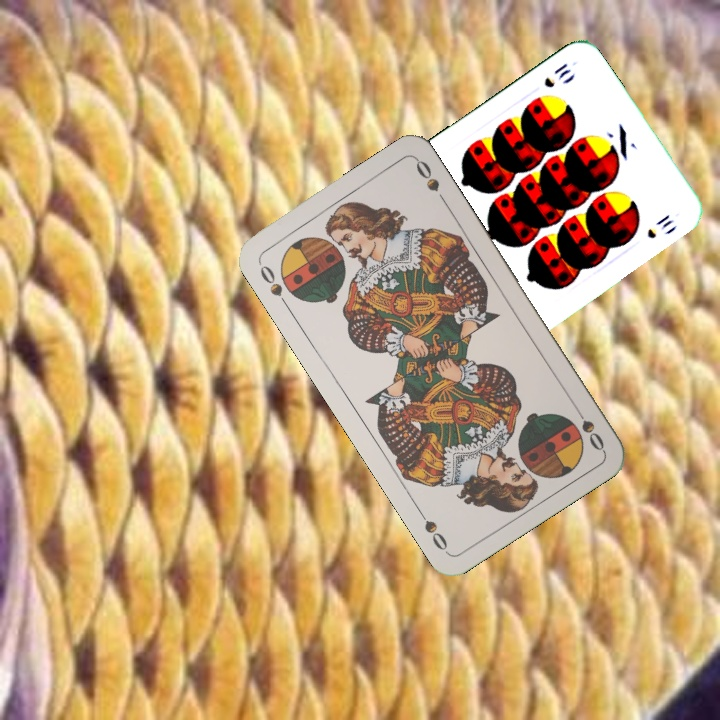S10: (540, 59, 574, 91)
SO: (568, 400, 607, 454), (255, 258, 292, 311)
